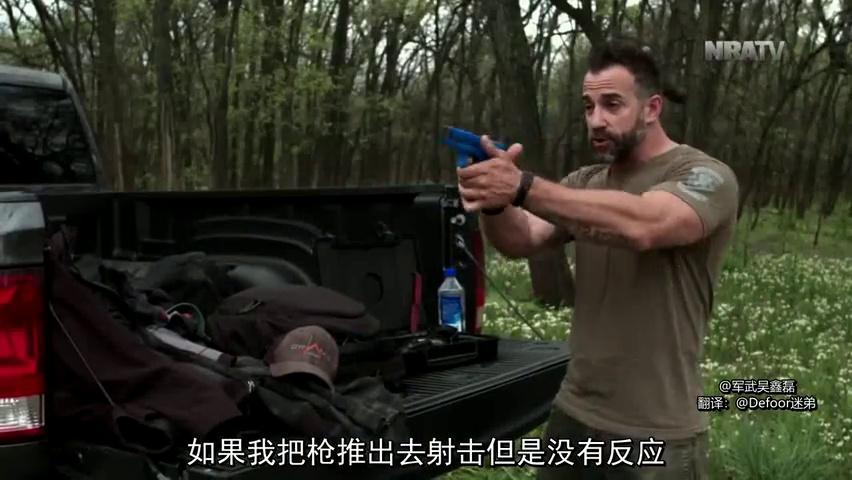gun: (438, 123, 528, 203)
